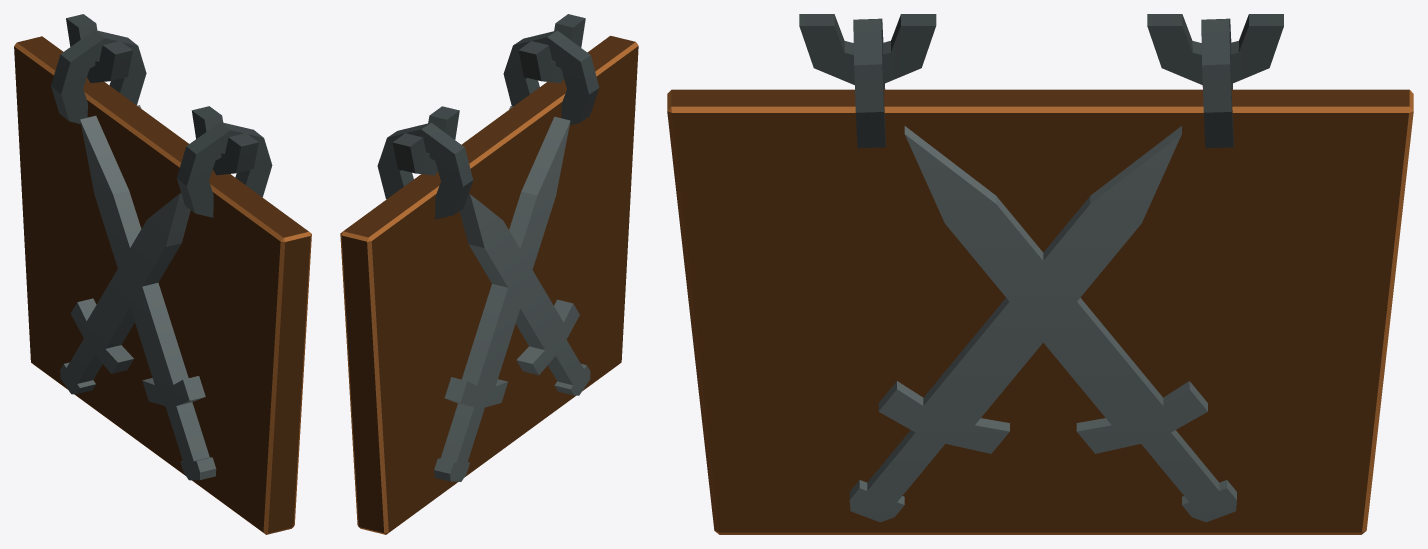
Rendered from Sing-1.fbx.
The picture shows the model from 3 angles, left to right: view 1: azimuth 30°, elevation 25°; view 2: azimuth 150°, elevation 25°; view 3: azimuth 270°, elevation 25°; orthographic projection. The views are drawn at different scales.
Parts seen in each view (by area): view 1: Sing-1; view 2: Sing-1; view 3: Sing-1.
Part boxes in pixels (x1,y1,x2,y2): Sing-1: (14,14,311,534); Sing-1: (340,14,638,534); Sing-1: (667,14,1413,534).
Size of the model in its own units: 26 by 107 by 142.
